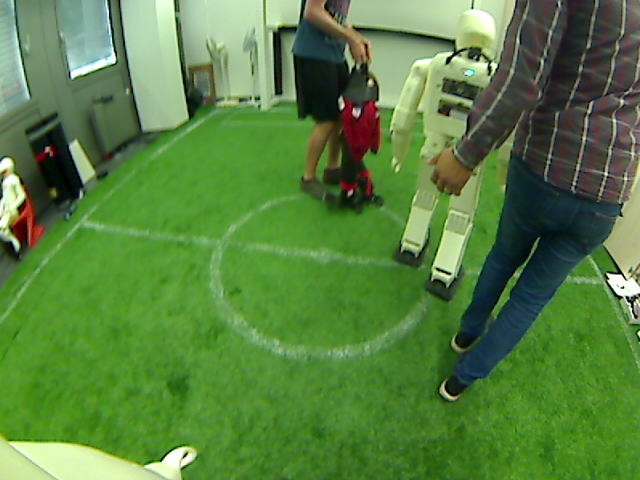goalpost: (254, 74, 276, 111)
robot: (405, 208, 459, 285), (348, 162, 365, 212)
